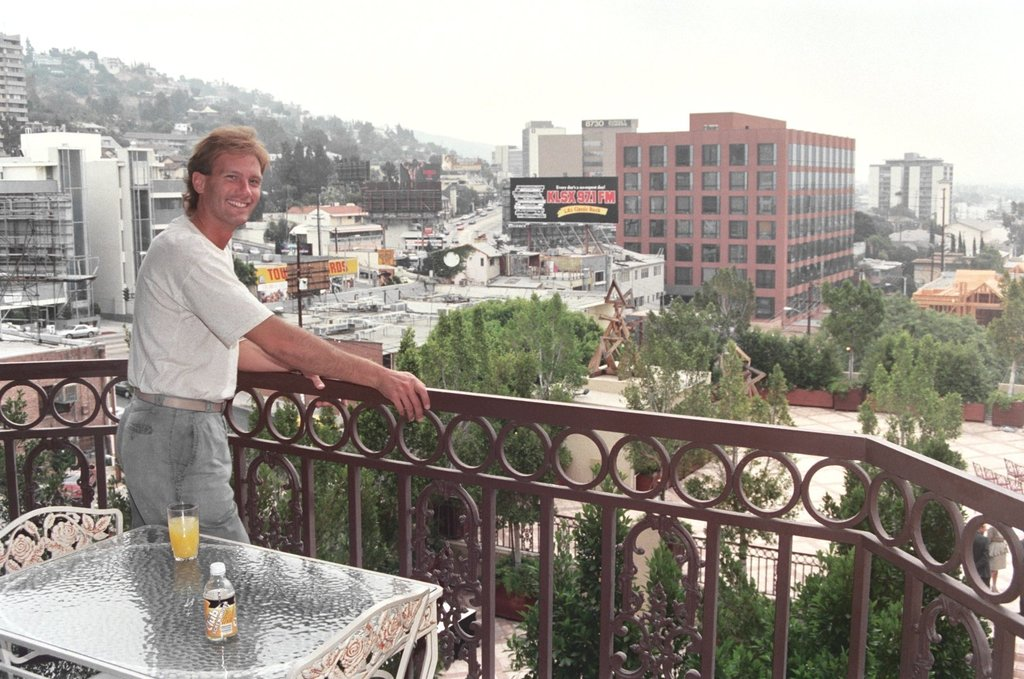Tree: (242, 271, 1023, 678), (838, 280, 997, 430), (0, 383, 131, 536), (258, 213, 293, 260)
